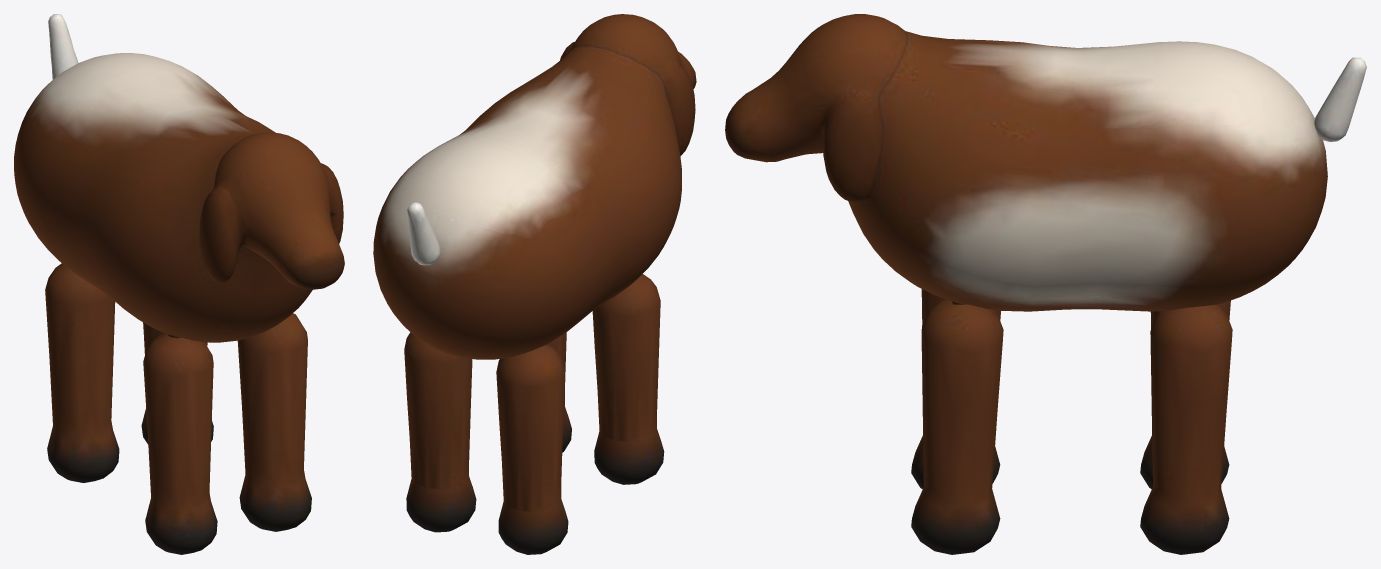
Rendered from animal_nubian_goat.glb.
3 views of the same model, side by side, from view 1: azimuth 30°, elevation 25°; view 2: azimuth 150°, elevation 25°; view 3: azimuth 270°, elevation 25° (orthographic). The views are drawn at different scales.
Parts seen in each view (by area): view 1: animal_nubian_goat, head, leg0, leg1, leg2, tail, leg3; view 2: animal_nubian_goat, leg2, leg0, leg3, head, tail, leg1; view 3: animal_nubian_goat, head, leg1, leg3, tail, leg0, leg2.
Boxes of the visible parts, x1,y1,x2,y2 form: animal_nubian_goat: (14, 53, 312, 342); head: (199, 132, 344, 289); leg0: (143, 332, 217, 554); leg1: (237, 313, 311, 531); leg2: (45, 263, 119, 482); tail: (48, 14, 78, 79); leg3: (141, 322, 213, 444); animal_nubian_goat: (373, 46, 681, 359); leg2: (496, 344, 568, 554); leg0: (592, 274, 664, 484); leg3: (404, 332, 476, 532); head: (560, 14, 696, 156); tail: (407, 202, 440, 265); leg1: (547, 332, 571, 452); animal_nubian_goat: (848, 31, 1327, 311); head: (725, 14, 907, 202); leg1: (911, 299, 1003, 554); leg3: (1140, 304, 1232, 554); tail: (1314, 57, 1366, 141); leg0: (911, 289, 1000, 489); leg2: (1140, 300, 1230, 489).
Bounding box in the file's own units: 0.2149 × 0.4364 × 0.5044.
1 material, 1 textured.
